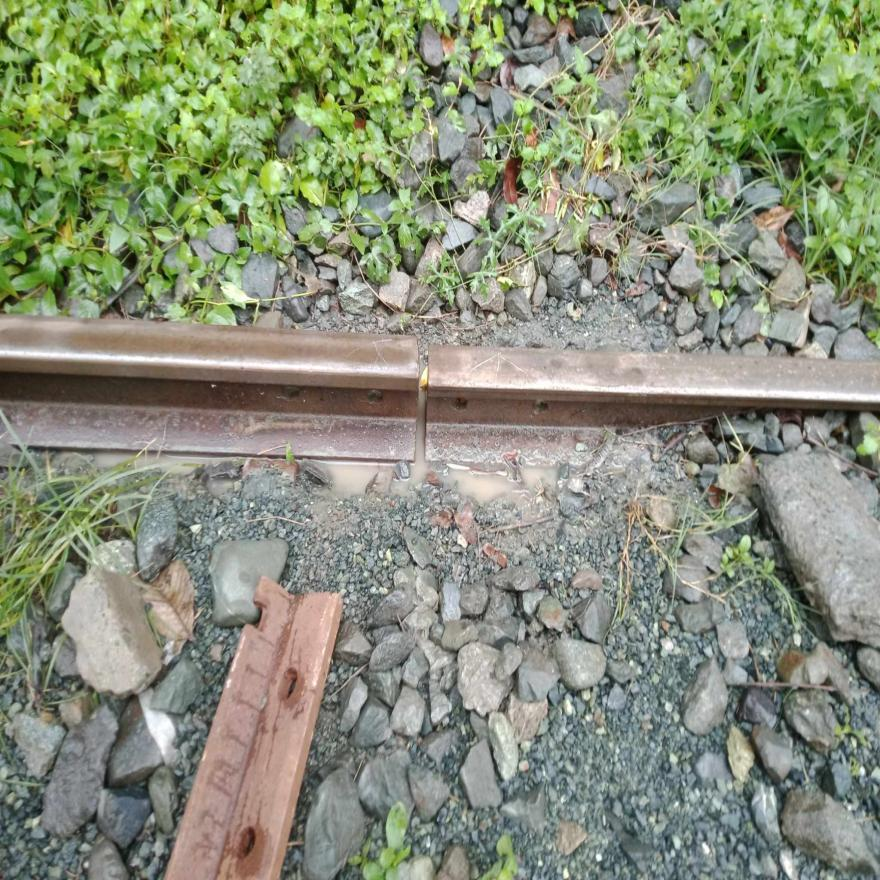railway-gap: (375, 329, 470, 471)
